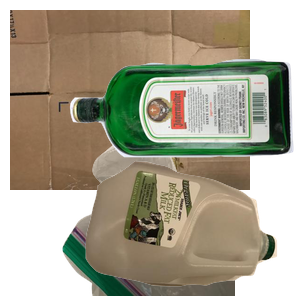cardboard: (10, 10, 250, 190)
glass: (67, 56, 300, 206)
plastic: (83, 159, 300, 300)
trash: (60, 120, 300, 300)
